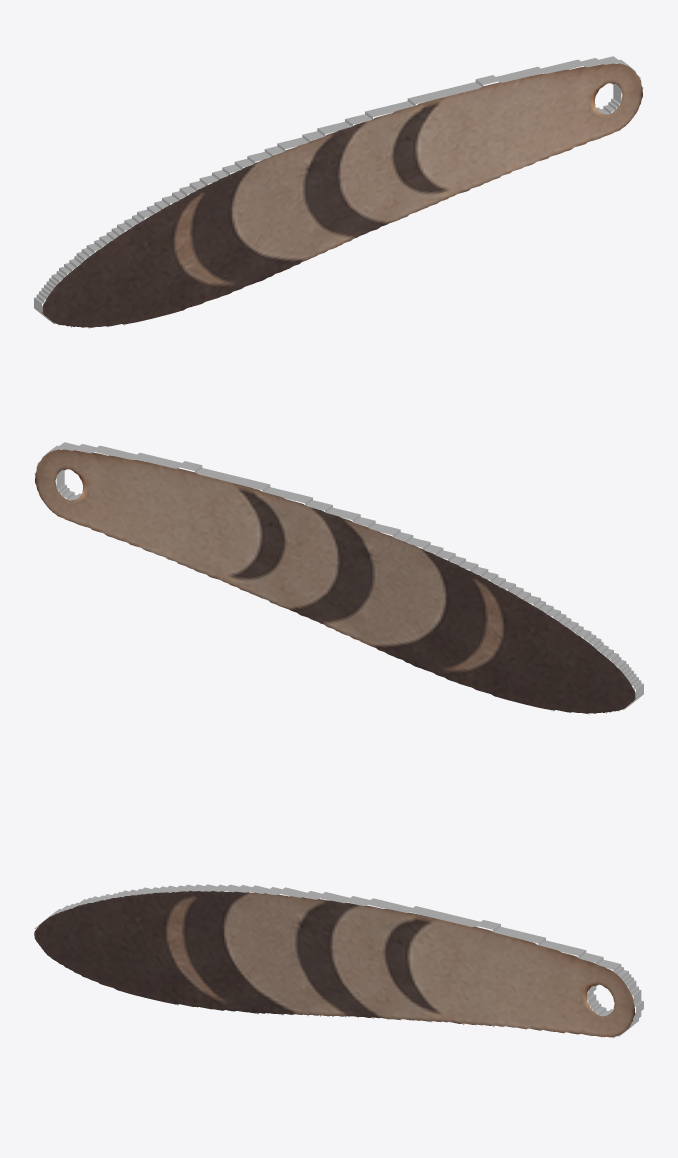
File: FlightLeft02.glb
3 renders of one model, top to bottom at view 1: azimuth 30°, elevation 25°; view 2: azimuth 150°, elevation 25°; view 3: azimuth 330°, elevation 25°, orthographic.
Visible parts, largest first — view 1: PaperVolume; view 2: PaperVolume; view 3: PaperVolume.
Part boxes in pixels (<box>): PaperVolume: <box>34,56,643,328</box>; PaperVolume: <box>34,442,643,714</box>; PaperVolume: <box>34,884,643,1038</box>.
Bounding box in the file's own units: 3.75 × 1.09 × 0.08.
3 materials, 2 textured.
